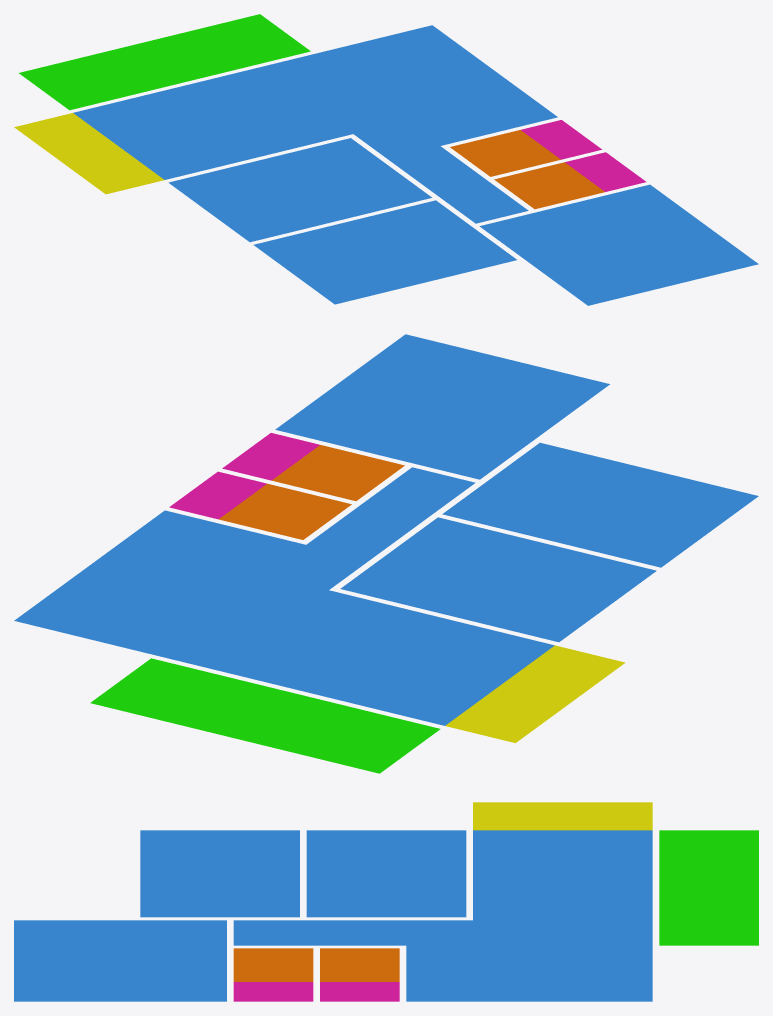
The model's file is Floor.fbx.
The picture shows the model from 3 angles, top to bottom: view 1: azimuth 30°, elevation 25°; view 2: azimuth 150°, elevation 25°; view 3: azimuth 270°, elevation 25°; orthographic projection. The views are drawn at different scales.
Visible parts, largest first — view 1: Floor; view 2: Floor; view 3: Floor.
Boxes of the visible parts, x1,y1,x2,y2 form: Floor: (14, 14, 758, 305); Floor: (14, 334, 758, 773); Floor: (14, 802, 758, 1001).
Bounding box in the file's own units: 7.1 × 1.82e-06 × 11.2.
